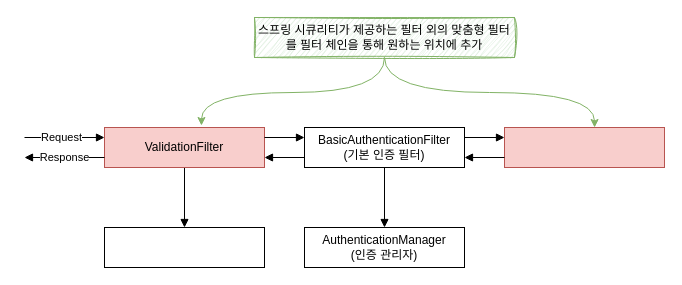
The diagram is 682 pixels wide and 285 high, and some of its shapes have lost their labels. Here are the shapes that lost their labels. From the top down, the centre of each, then its label:
At [584,147]: "LoggingFilter".
At [184,247]: "ValidationManager".
